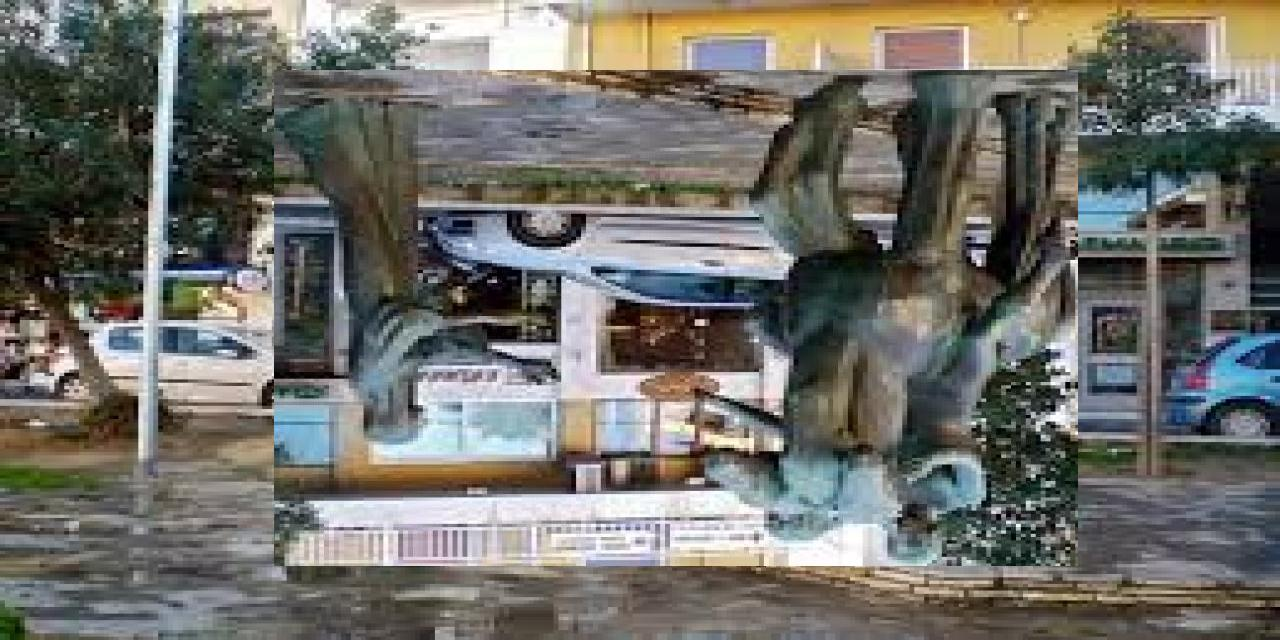Aretousa: (275, 71, 1079, 567)
